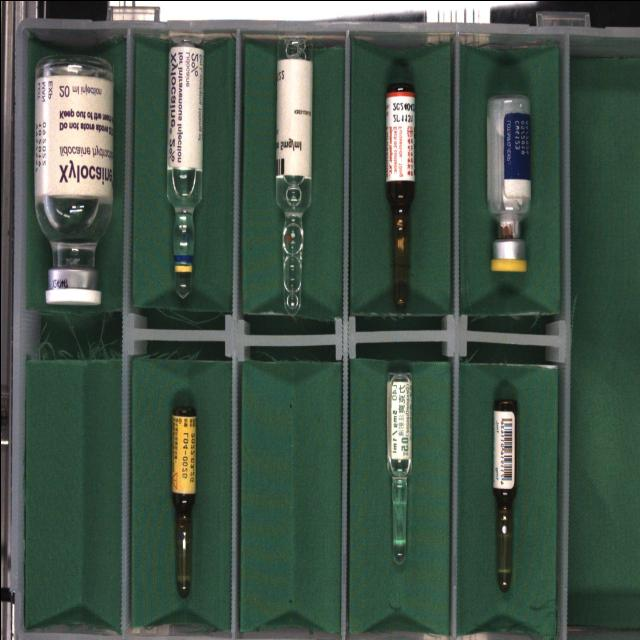Vials: (34, 61, 112, 304), (486, 95, 530, 271)
